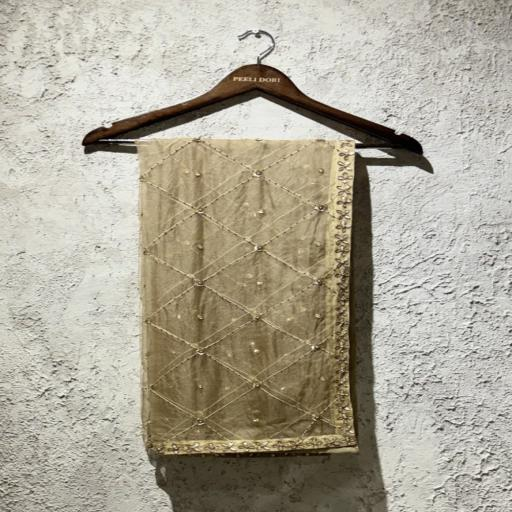Dupatta: (111, 121, 369, 467)
